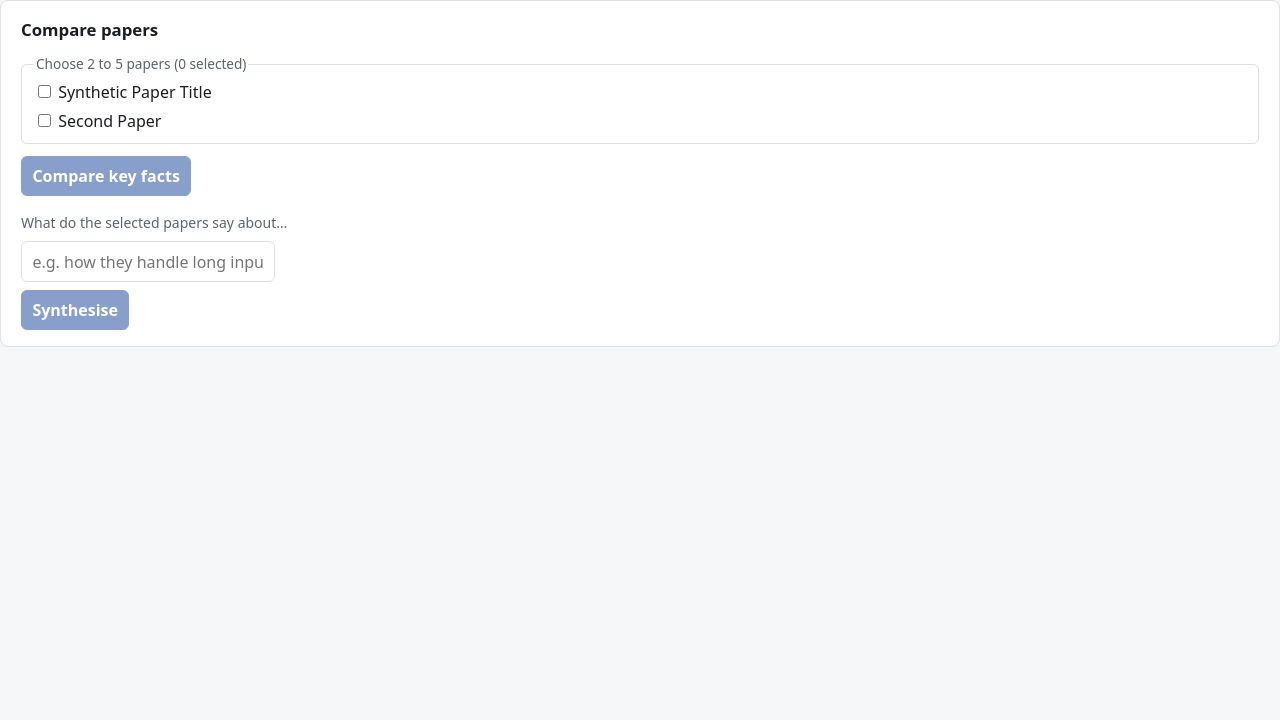
Scenario: CompareView › compares selected papers side by side and shows caveats
This screenshot has width=1280, height=720.
Check: the button "Compare key facts" is disabled, box [21, 156, 191, 196]
Click the checkbox labelled "Synthetic Paper Title". click: click(44, 92)
box: [38, 85, 51, 98]
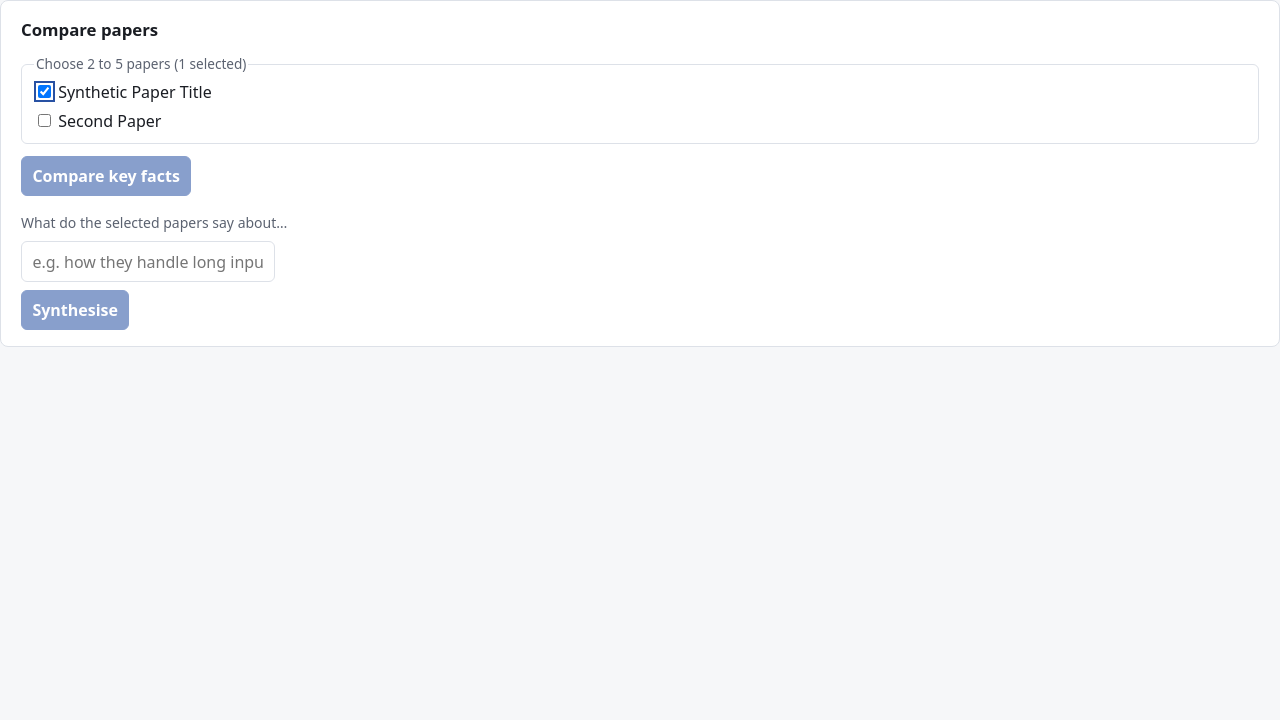
Click the checkbox labelled "Second Paper". click: click(44, 120)
box: [38, 114, 51, 127]
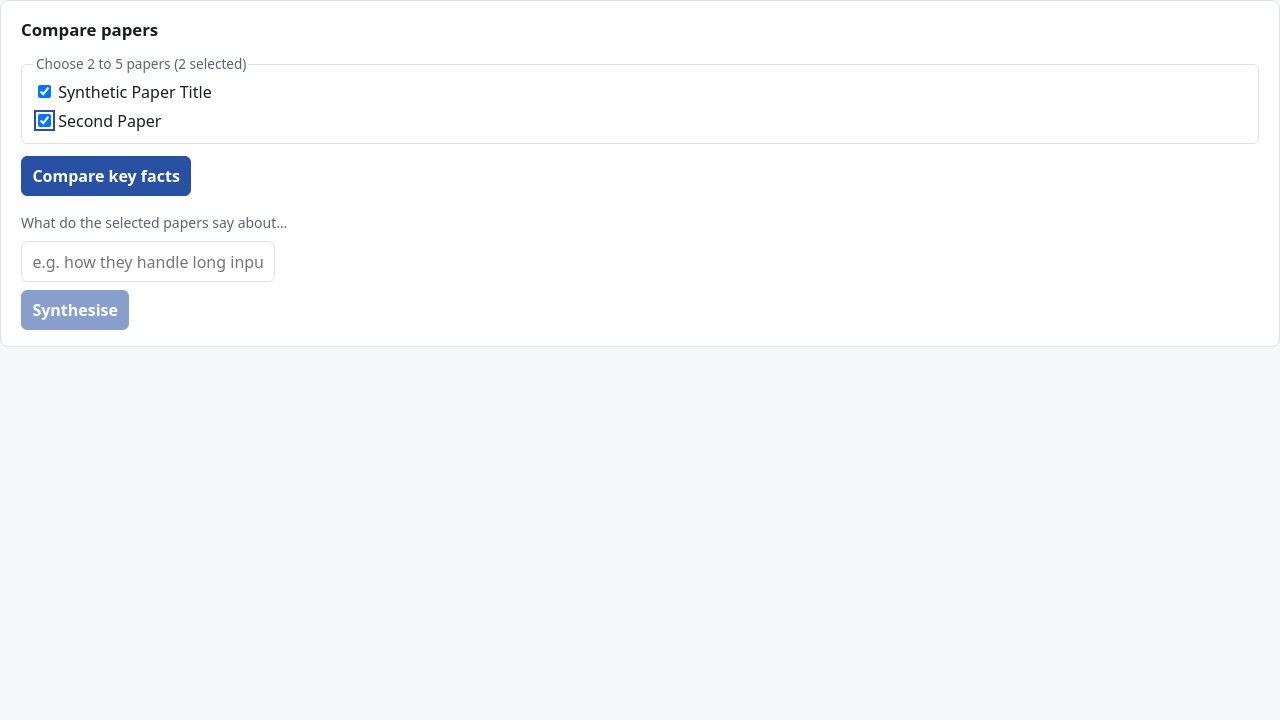
Click the button "Compare key facts". click: click(106, 176)
box: [21, 156, 191, 196]
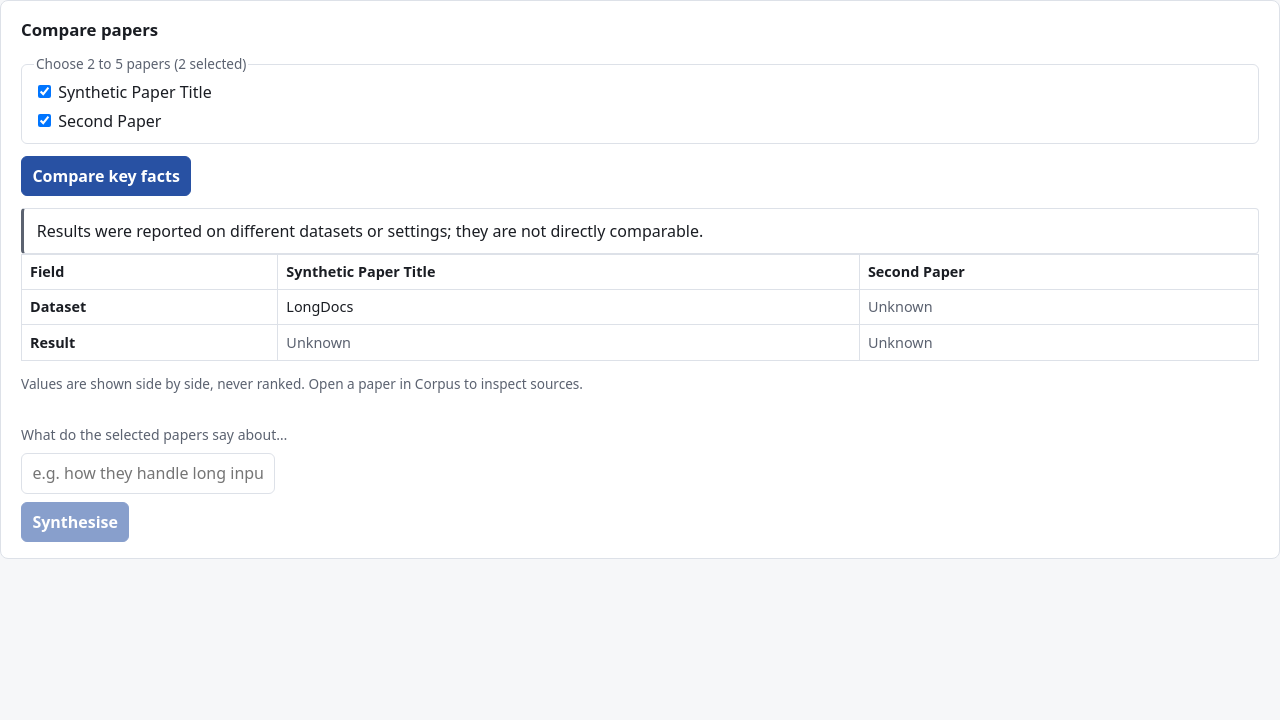
Check: the text "not directly comparable" is shown, box [37, 220, 703, 242]
